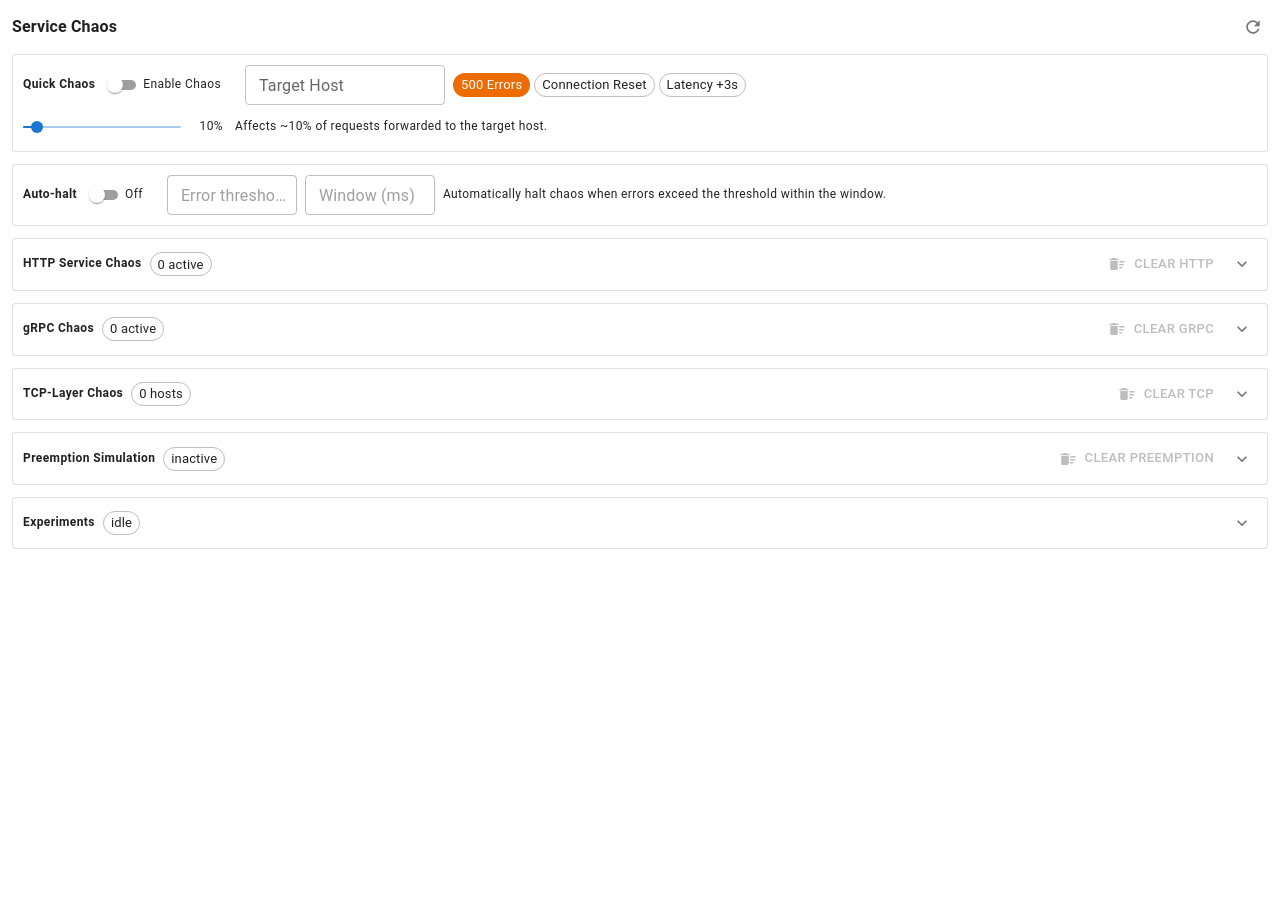
ServiceChaosPanel › rejects a register with a host but no fault set
The image size is (1280, 899).
Click the button named "Expand HTTP chaos" at (1242, 264), box x1=1227 y1=249 x2=1257 y2=279
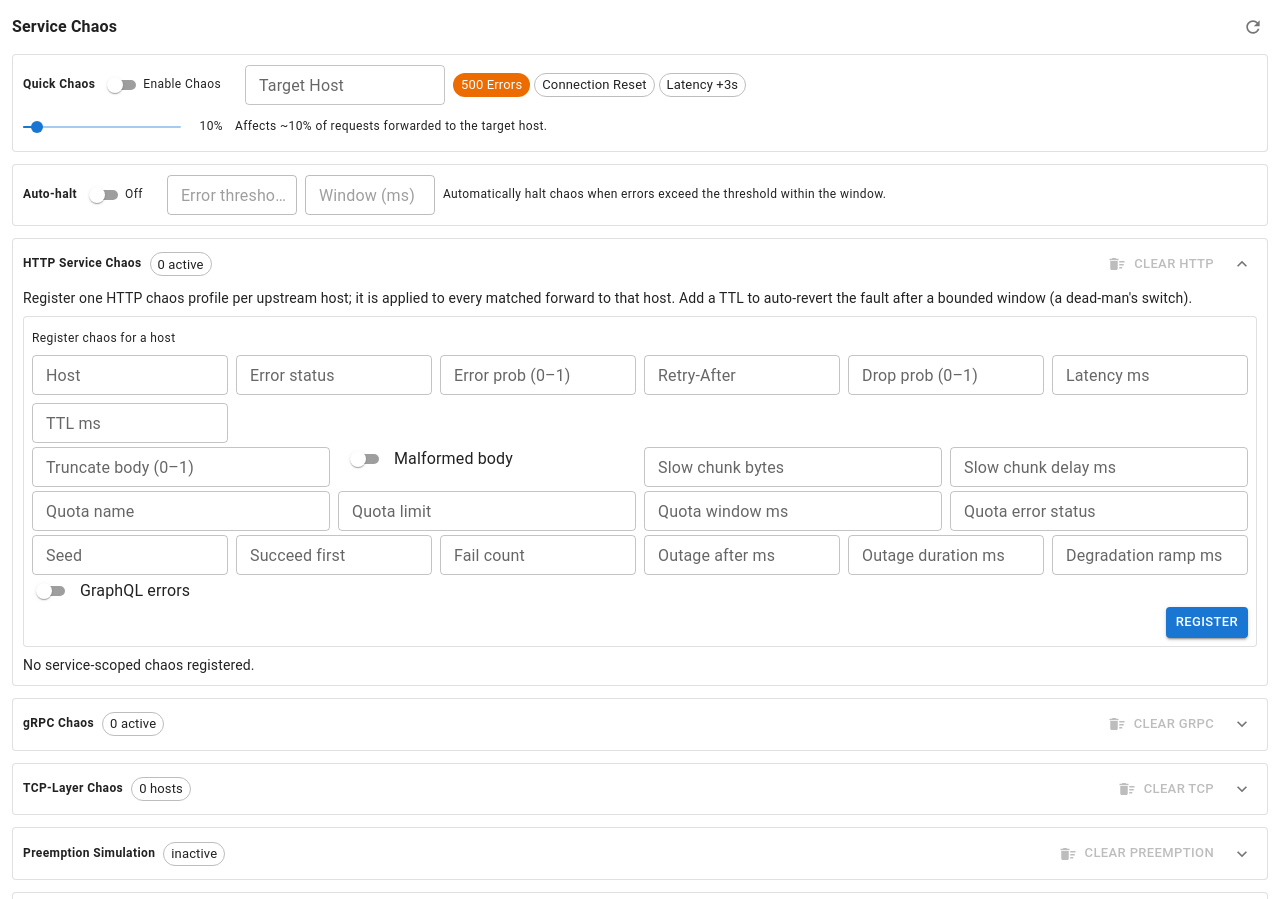
Type "pay.svc" into the field labelled "Host" at (130, 375), box x1=32 y1=355 x2=228 y2=395
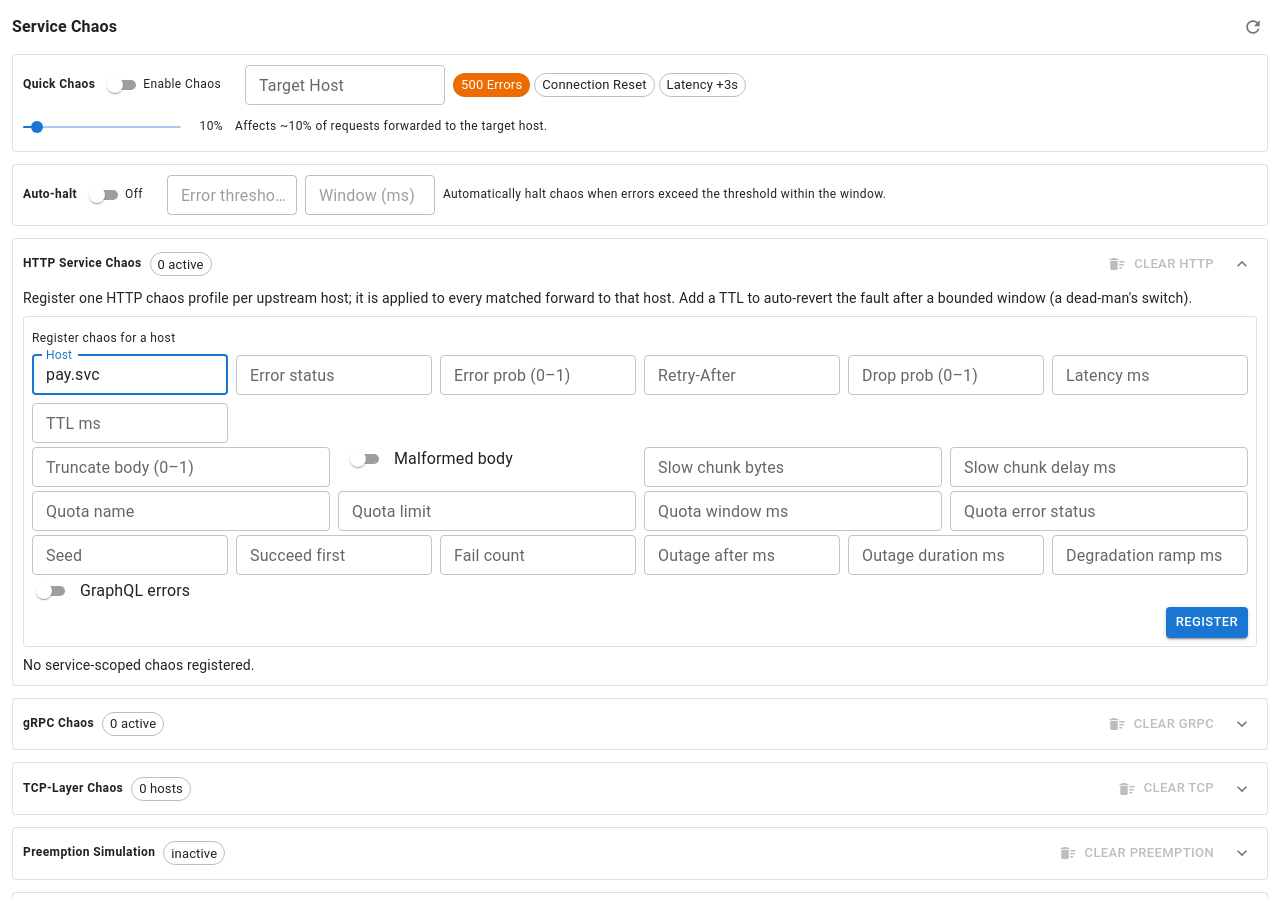
Click the button "Register" at (1207, 622), box x1=1166 y1=607 x2=1248 y2=638
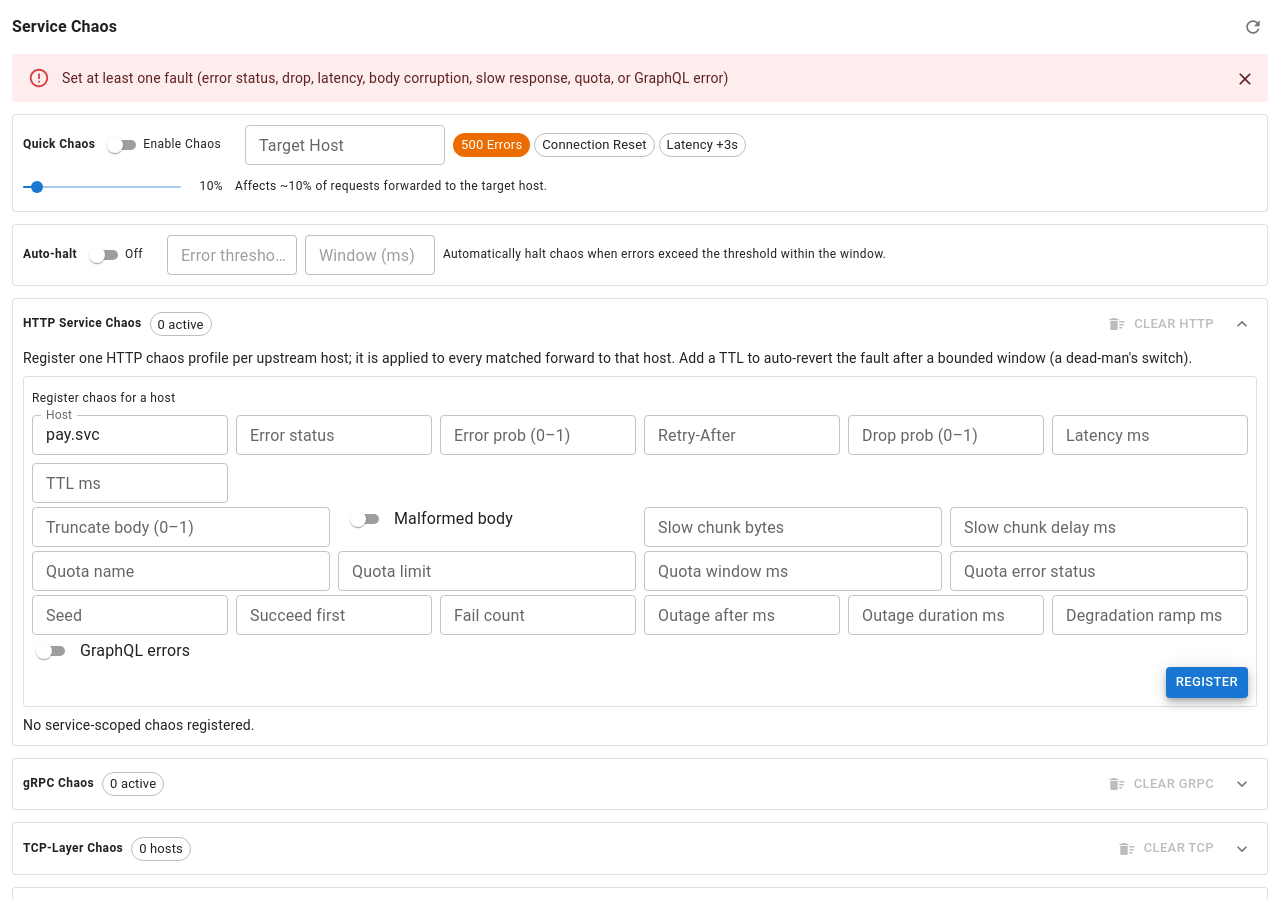
Result: the text "Set at least one fault" is shown at x1=62 y1=70 x2=728 y2=86
